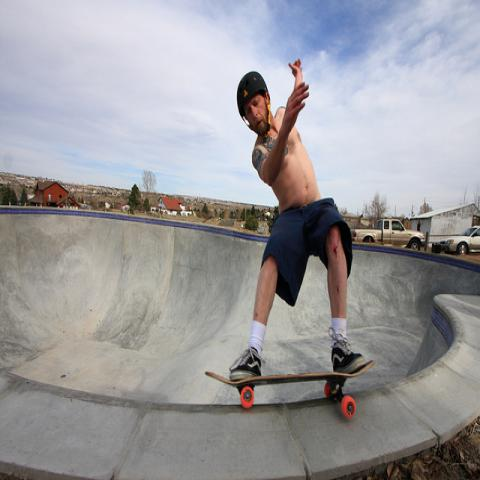car: (444, 225, 479, 256)
truck: (352, 220, 425, 252)
